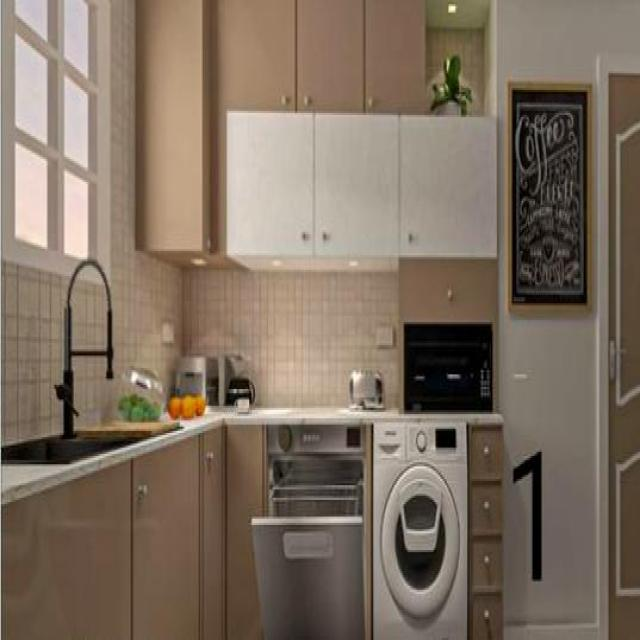dishwasher: (249, 420, 364, 638)
